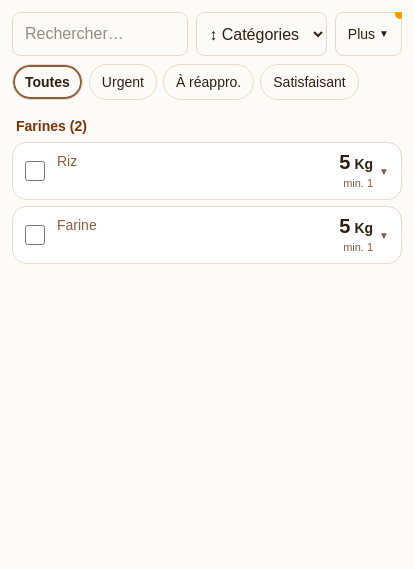
Scenario: Inventaire — fournisseur en lecture, cliquable › la carte du téléphone dépliée montre le même lien vers la fiche fournisseur
Step 1. Click the button "5Kg min. 1 ▼" in the row of "Riz" → click(366, 171), box [331, 143, 401, 199]
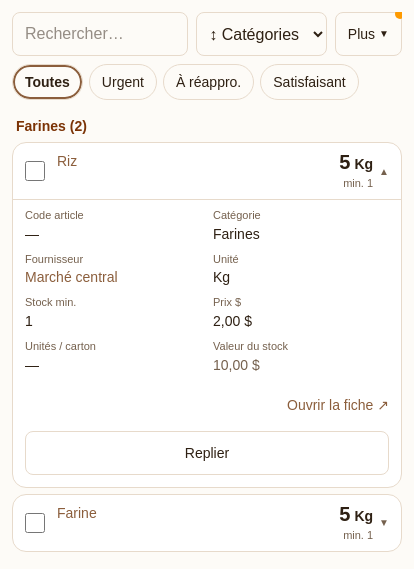
Expected: the link to "/stock/fournisseurs/f1" reads "Marché central", [25, 269, 118, 285]
